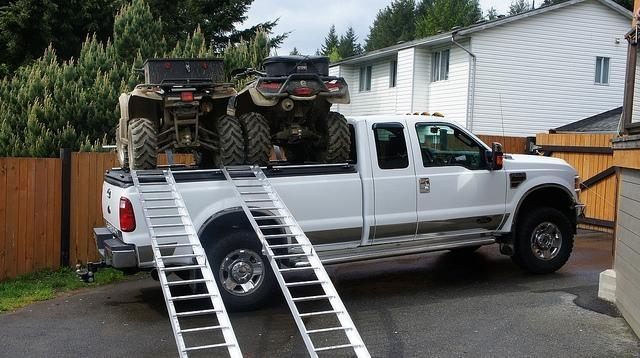truck: (92, 116, 584, 312)
